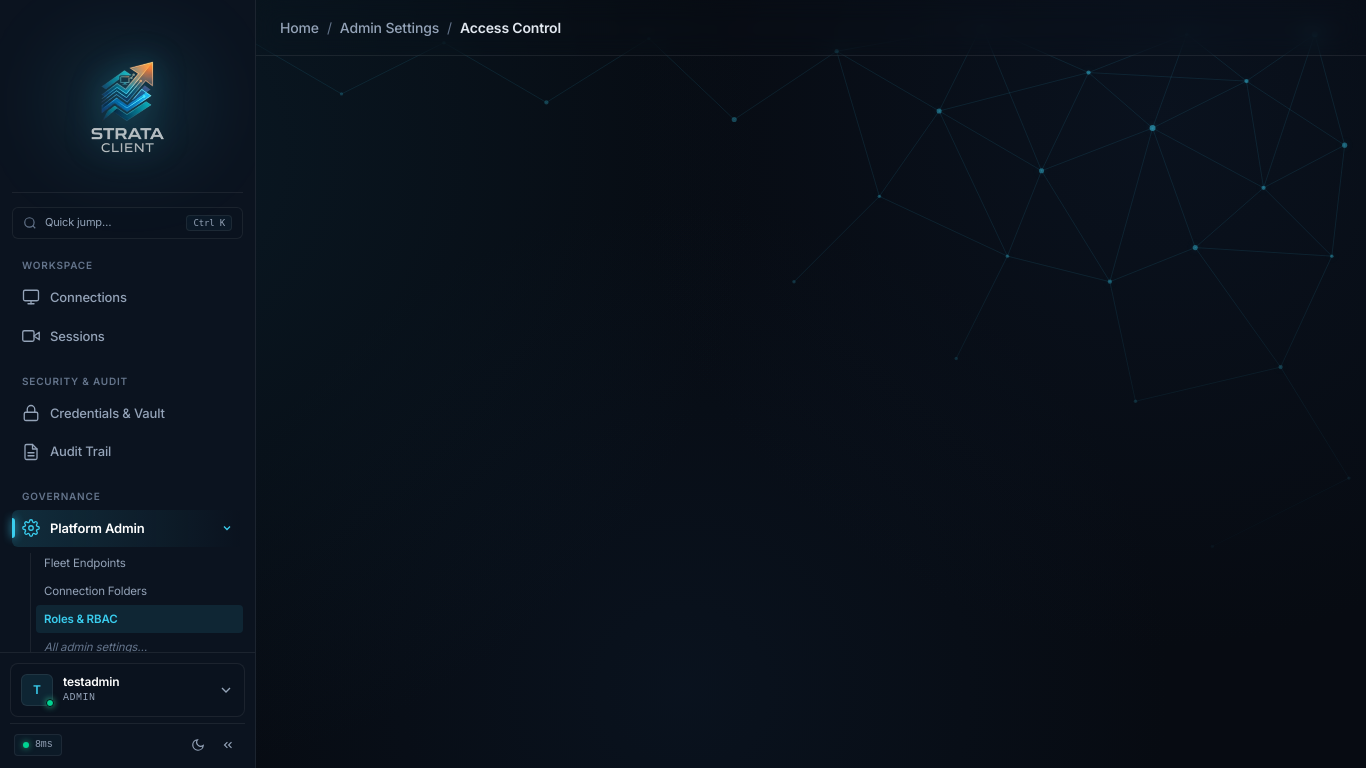
Test case: Layout › shows the admin sub-tree with real admin routes
This screenshot has width=1366, height=768.
Click the button "Platform Admin" at (128, 528), box [12,510,243,547]
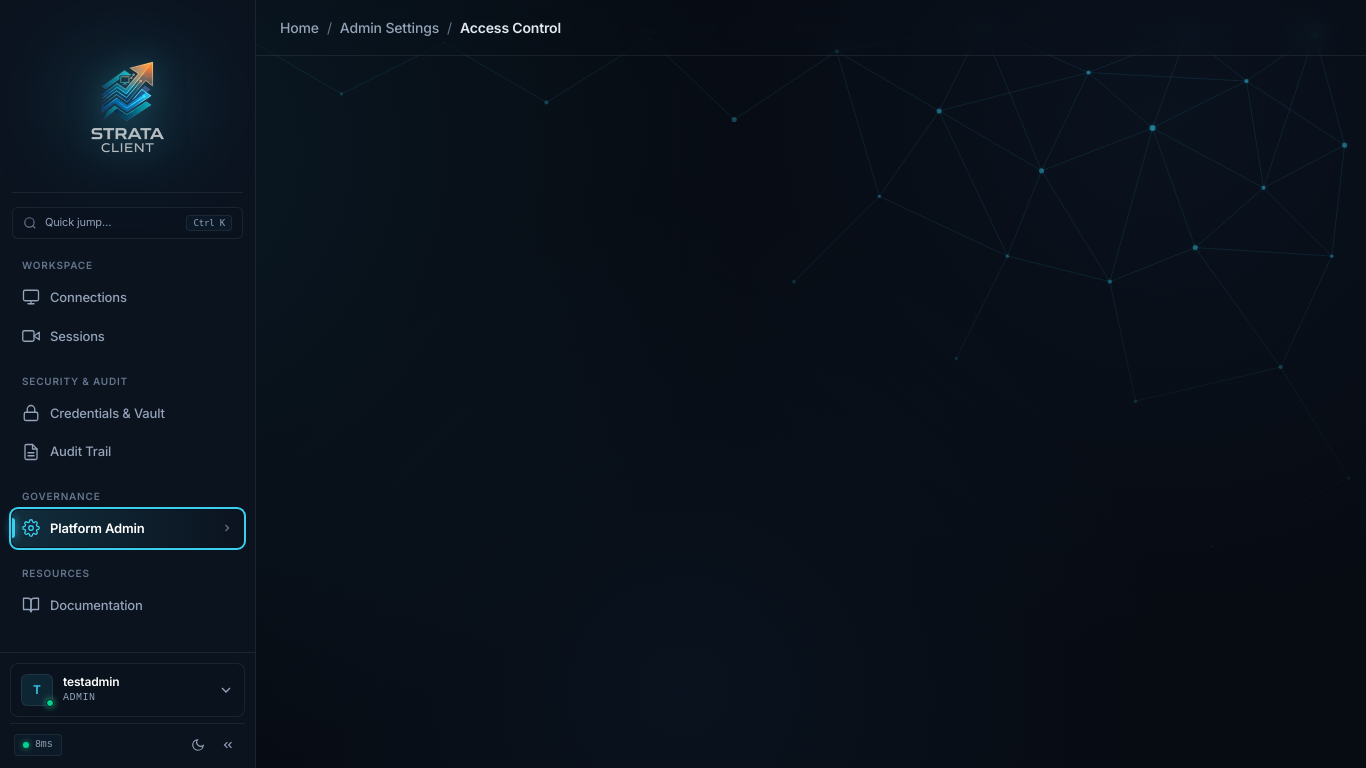
Now the link "Roles & RBAC" is gone
